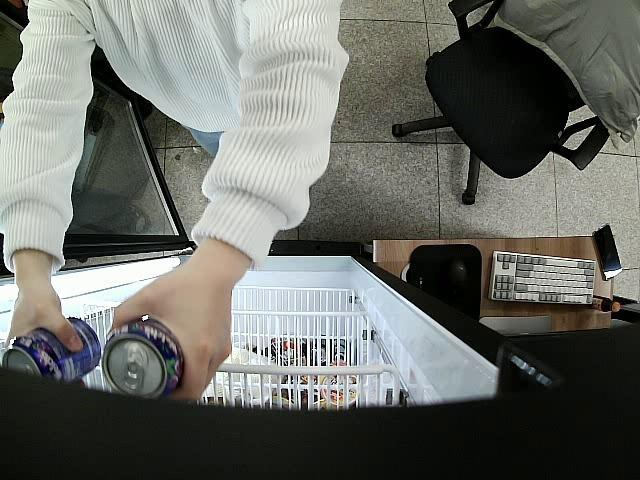14_welchsGrape: (0, 316, 101, 388), (100, 319, 186, 397)
